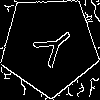Y: (24, 20, 79, 75)
